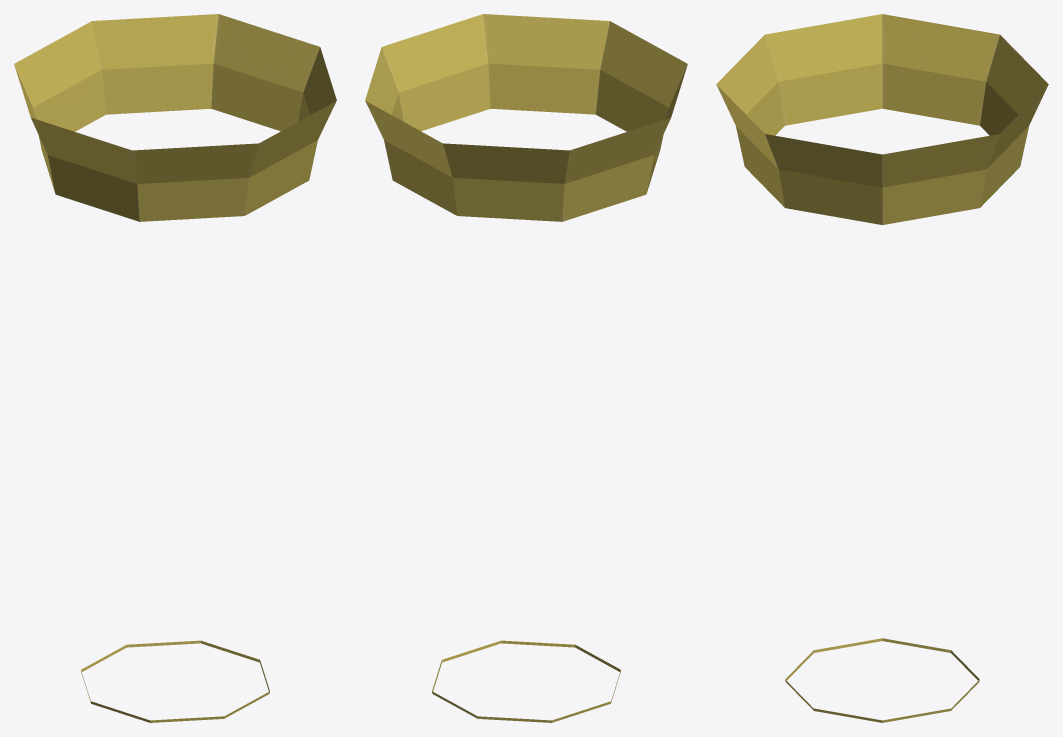
File: BOA_03.glb
The picture shows the model from 3 angles, left to right: view 1: azimuth 30°, elevation 25°; view 2: azimuth 150°, elevation 25°; view 3: azimuth 270°, elevation 25°; orthographic projection.
Bounding box in the file's own units: 0.1243 × 0.2465 × 0.1243.
1 material, 1 textured.
